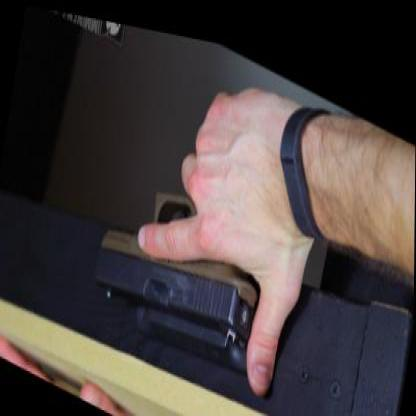pistol: (87, 150, 268, 374)
